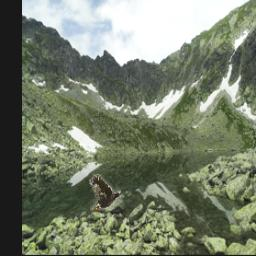Woodpecker: (90, 175, 122, 211)
